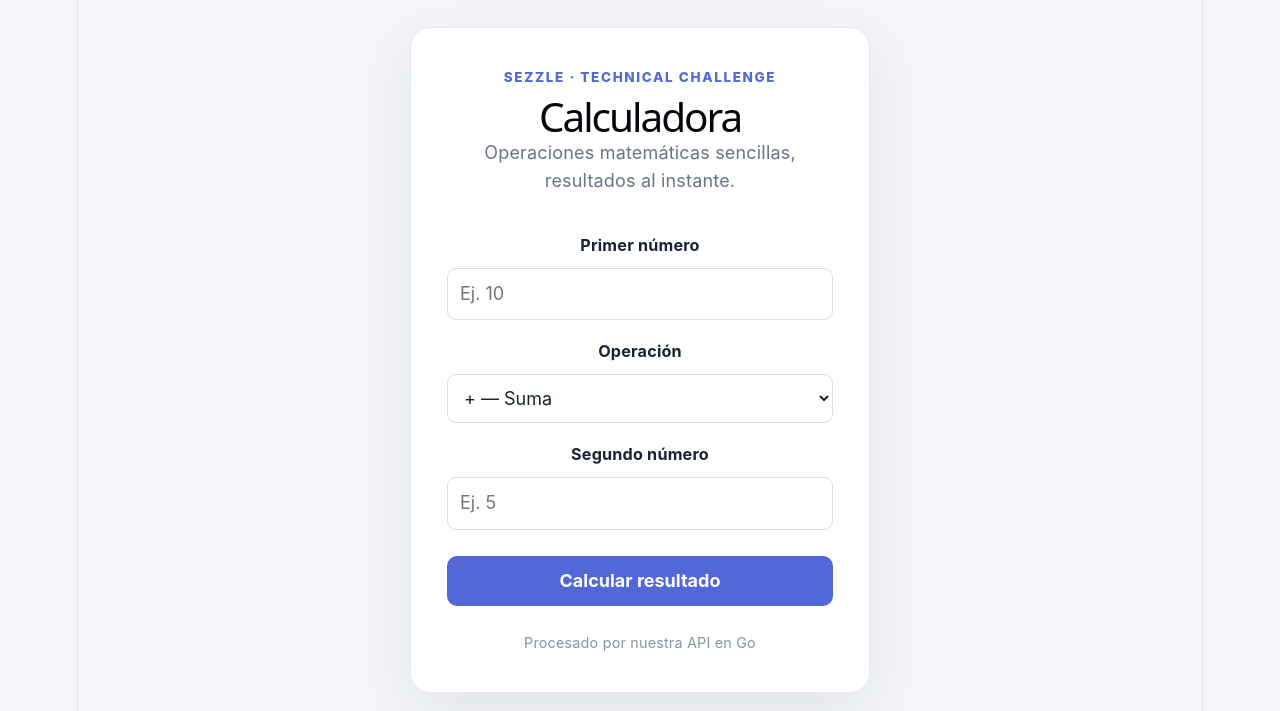
Calculator › shows an error when the API rejects the operation
Type "10" into the number field labelled "Primer número" at (640, 294), box [447,268,833,320]
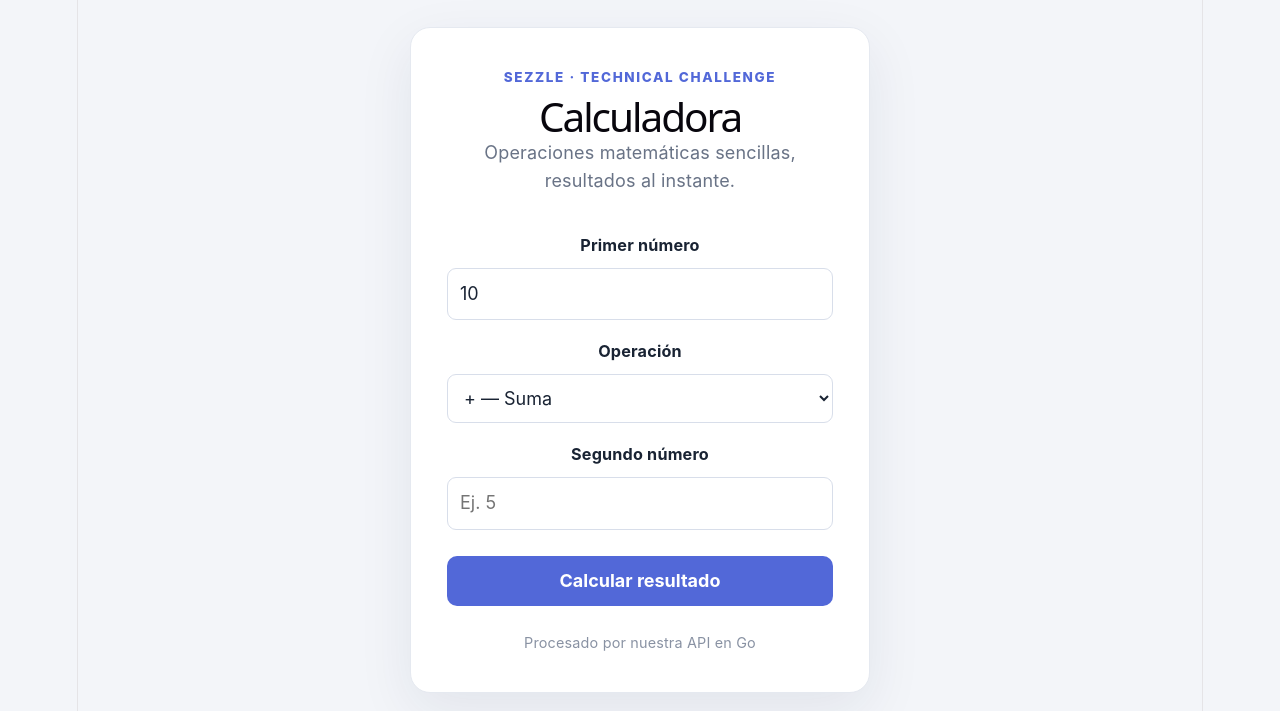
Type "0" into the number field labelled "Segundo número" at (640, 504), box [447,478,833,530]
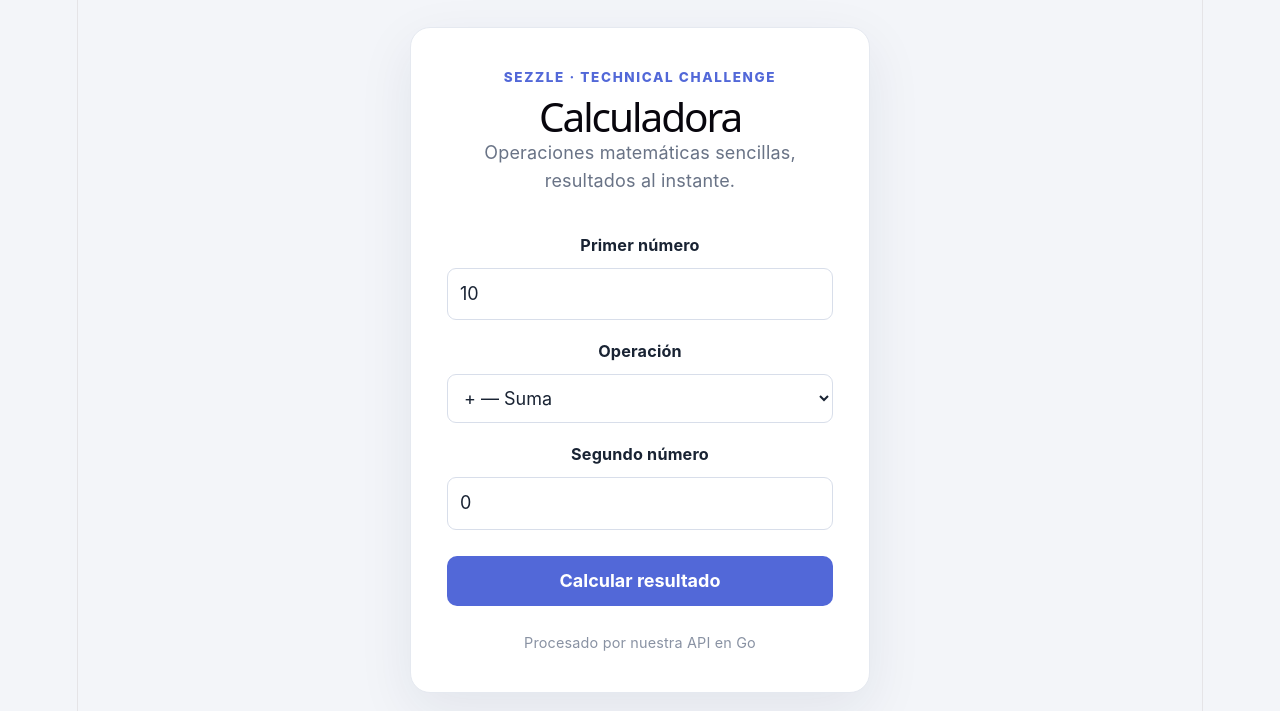
Select "÷ — División" in the dropdown labelled "Operación" at (640, 399), box [447,374,833,423]
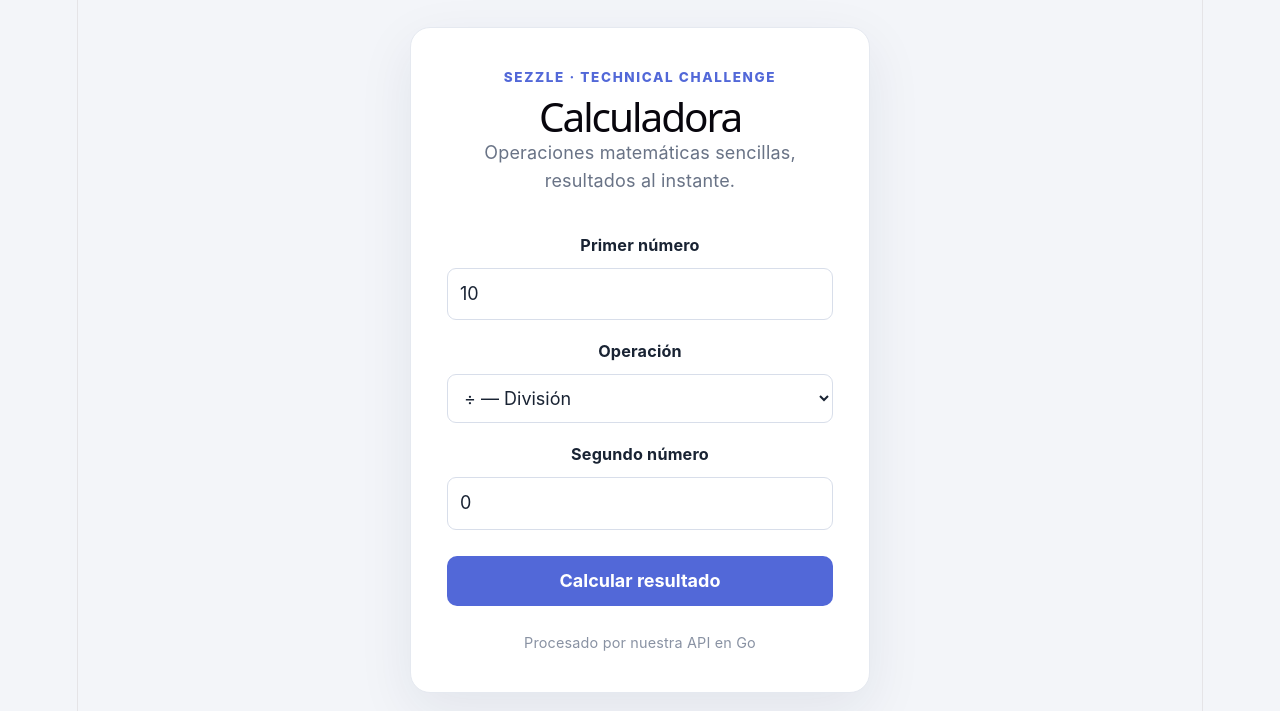
Click the button "Calcular resultado" at (640, 581), box [447,556,833,606]
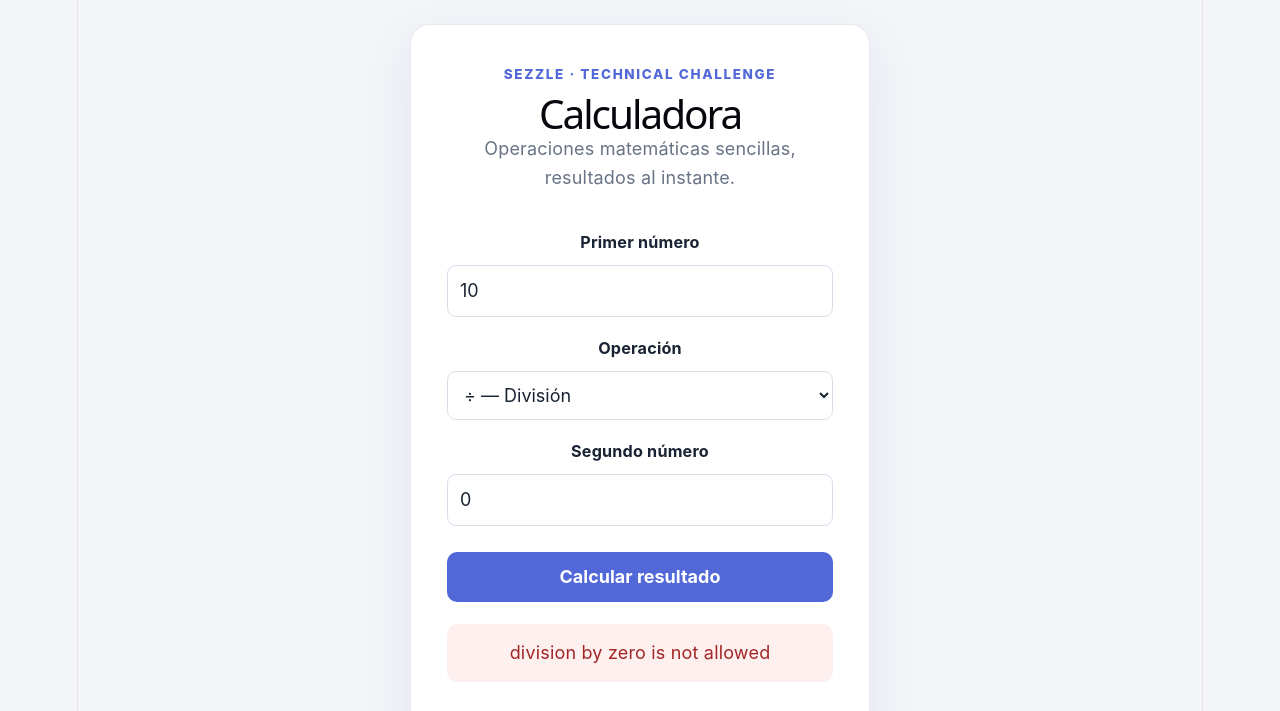
expect the text "division by zero is not allowed" is shown: met, box [447,624,833,682]
